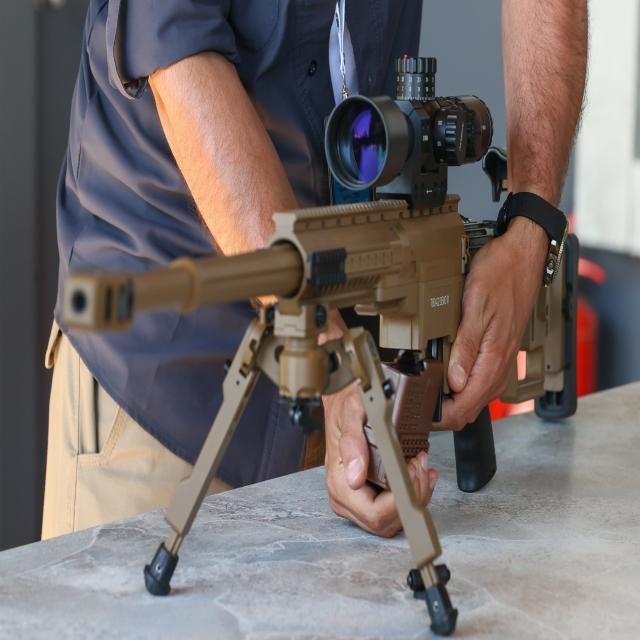Weapon: (62, 182, 470, 557)
